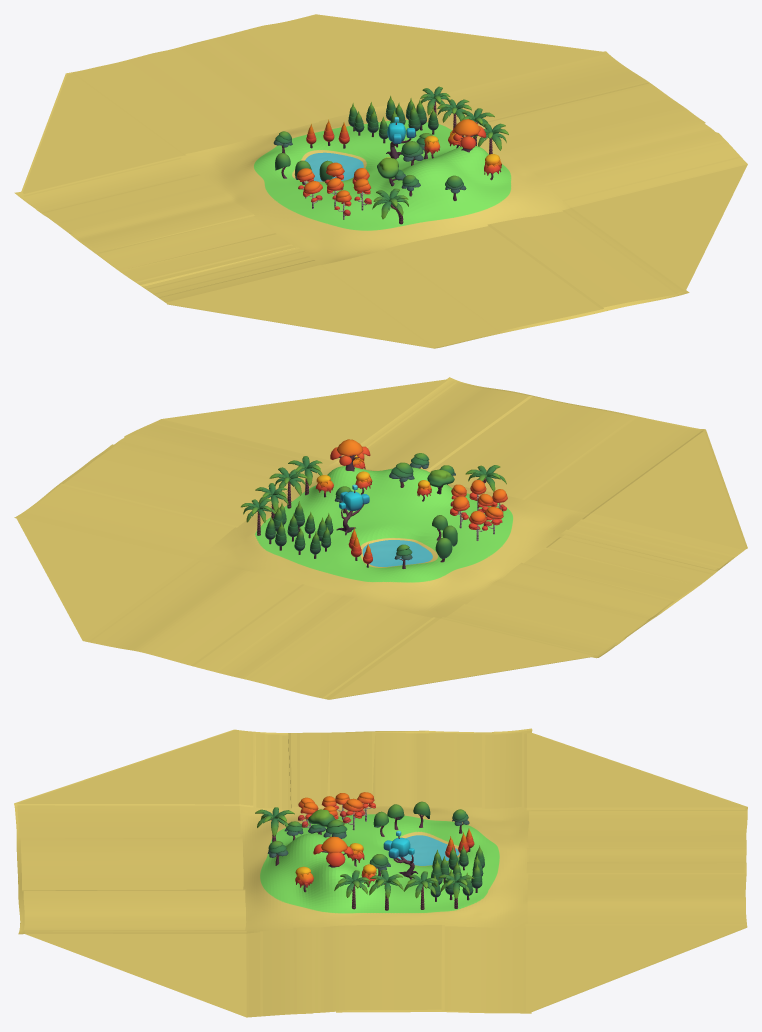
Rendered from greenary-set-done.glb.
3 views of the same model, one above another, from view 1: azimuth 30°, elevation 25°; view 2: azimuth 150°, elevation 25°; view 3: azimuth 270°, elevation 25° (orthographic). The views are drawn at different scales.
Parts seen in each view (by area): view 1: Terrain, Trees, Lake; view 2: Terrain, Trees, Lake; view 3: Terrain, Trees, Lake.
Boxes of the visible parts, left/top/right/bottom form: Terrain: left=14, top=14, right=747, bottom=348; Trees: left=273, top=86, right=508, bottom=224; Lake: left=305, top=152, right=363, bottom=181; Terrain: left=14, top=377, right=747, bottom=699; Trees: left=241, top=439, right=507, bottom=568; Lake: left=362, top=540, right=432, bottom=566; Terrain: left=14, top=728, right=747, bottom=1017; Trees: left=255, top=792, right=484, bottom=910; Lake: left=397, top=835, right=459, bottom=865.
Size of what is drawn, in the model's own units: 245 by 27.95 by 269.
13 materials, 12 textured.
